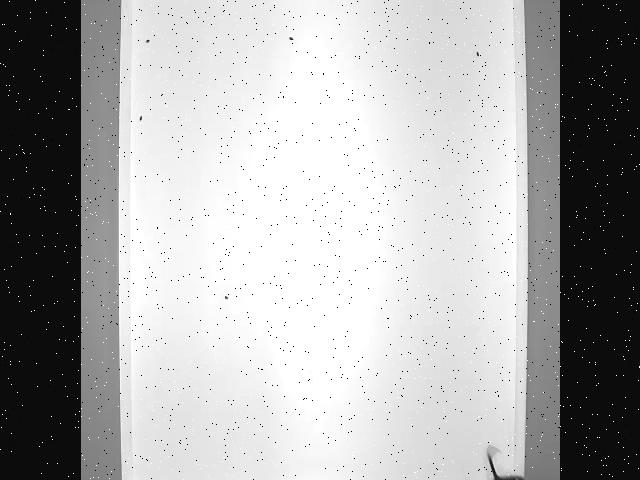Tikus: (474, 443, 528, 480)
